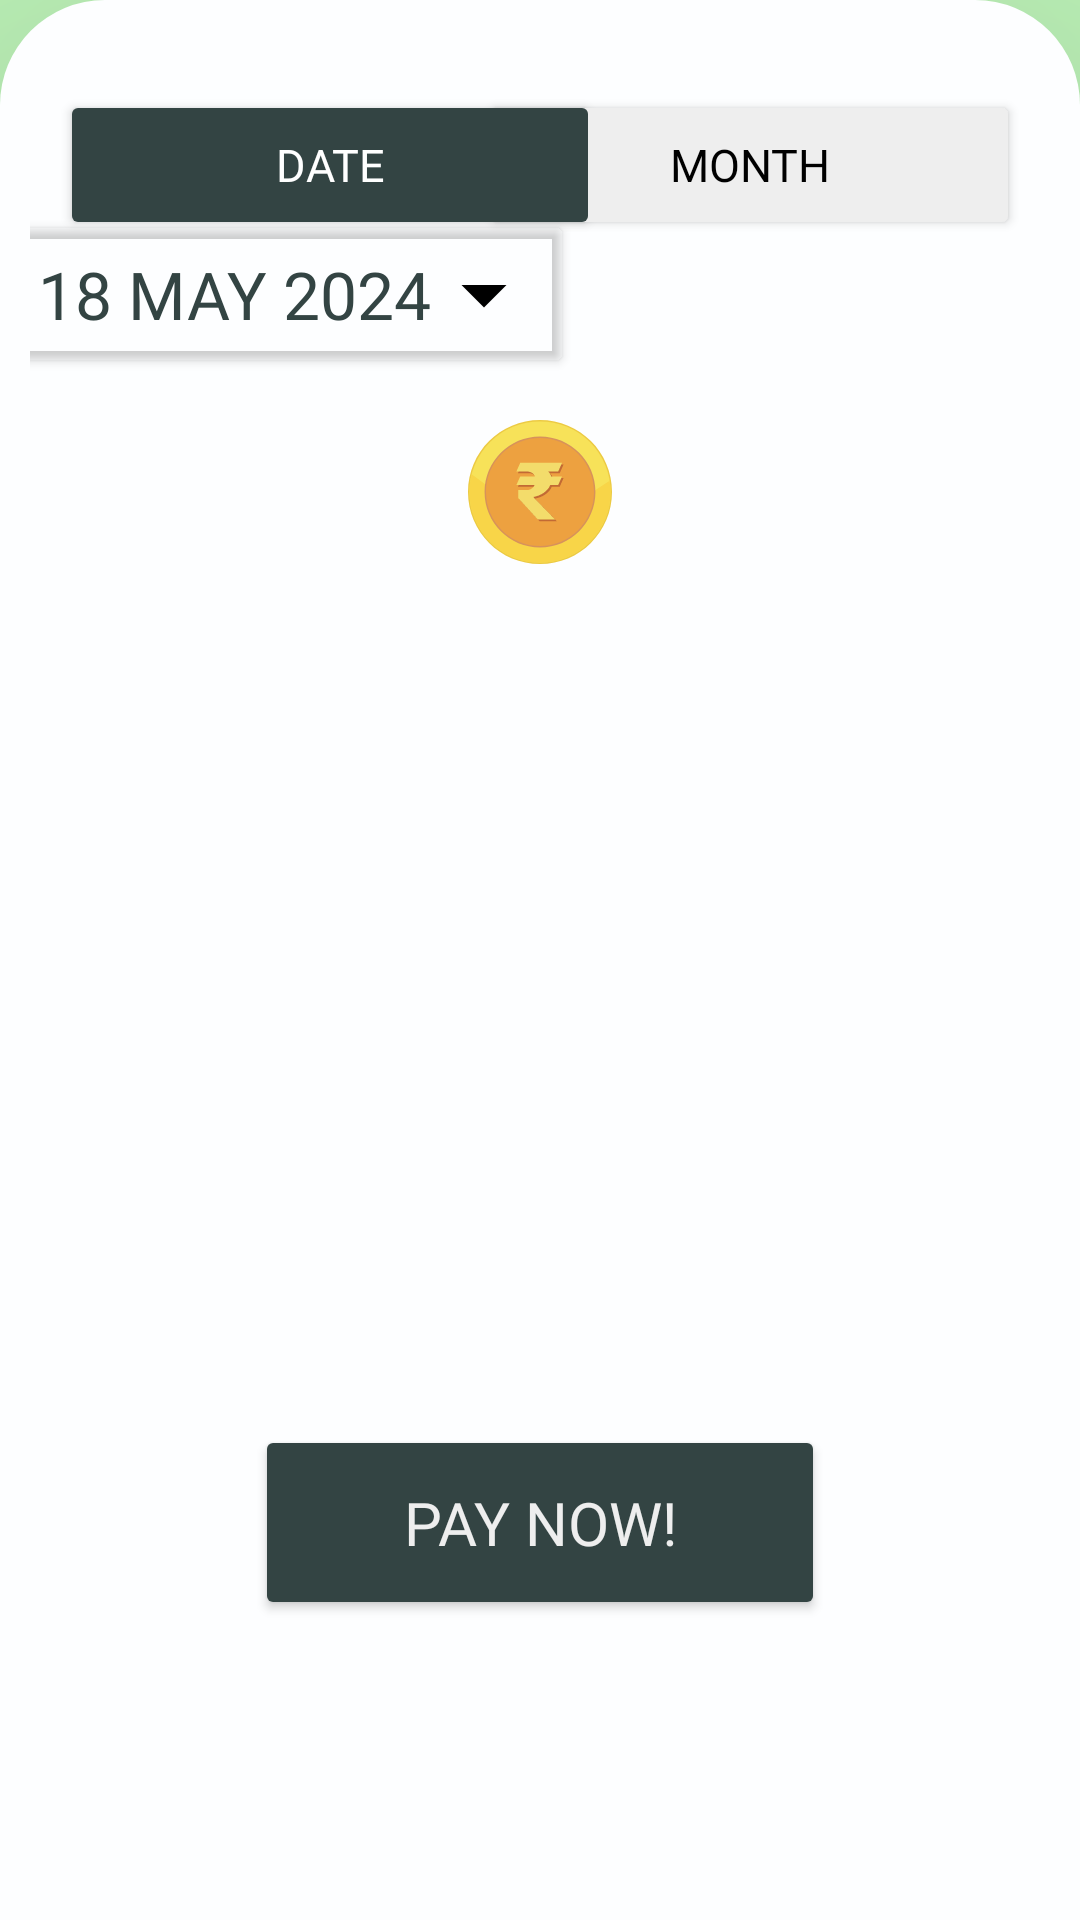

Named icons in this screenshot (1080px x 1920px) and their bounding boxes, (x1,y1,x2,y2):
gold coin rupee: (468,420,612,564)
